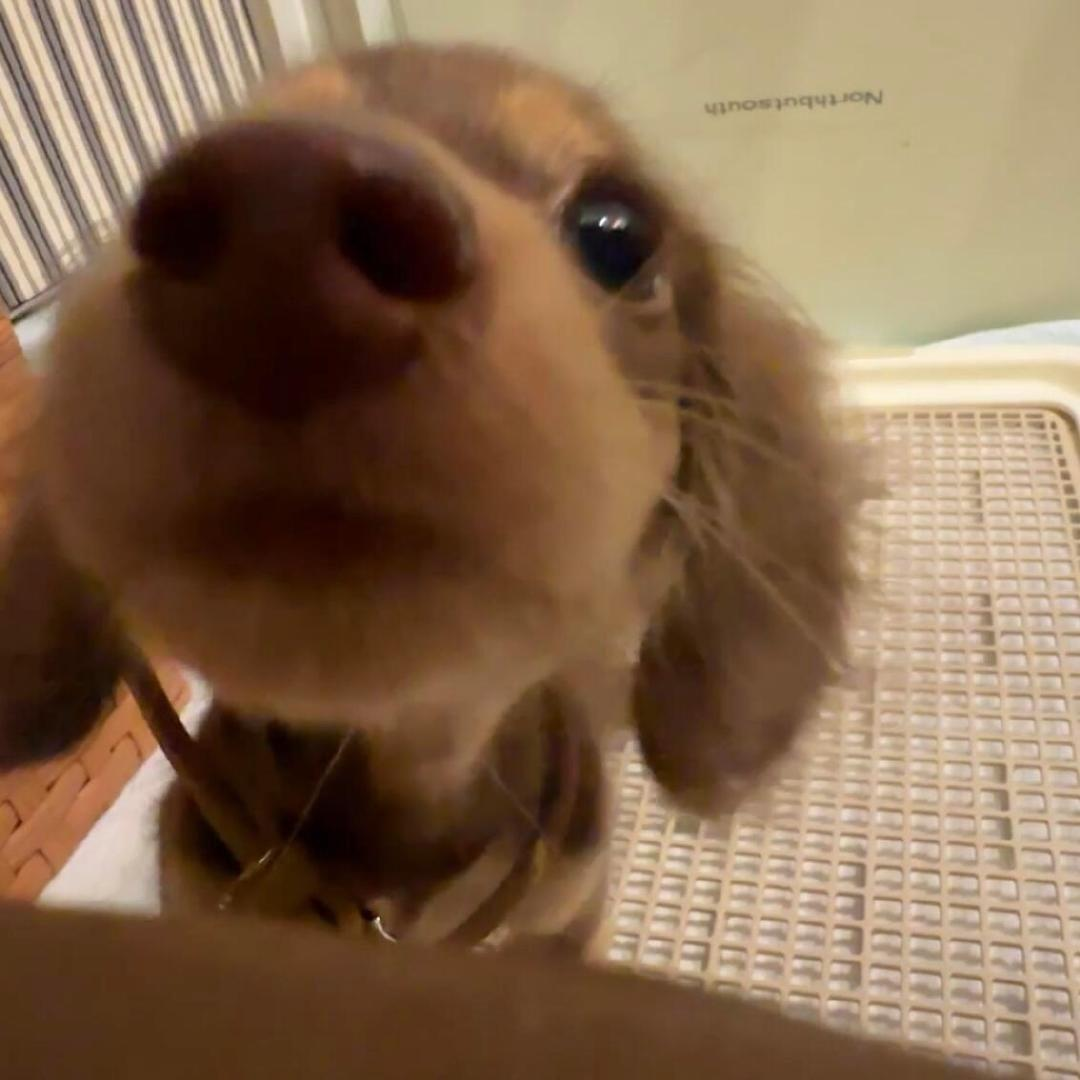adult_dog: (1, 20, 883, 966)
